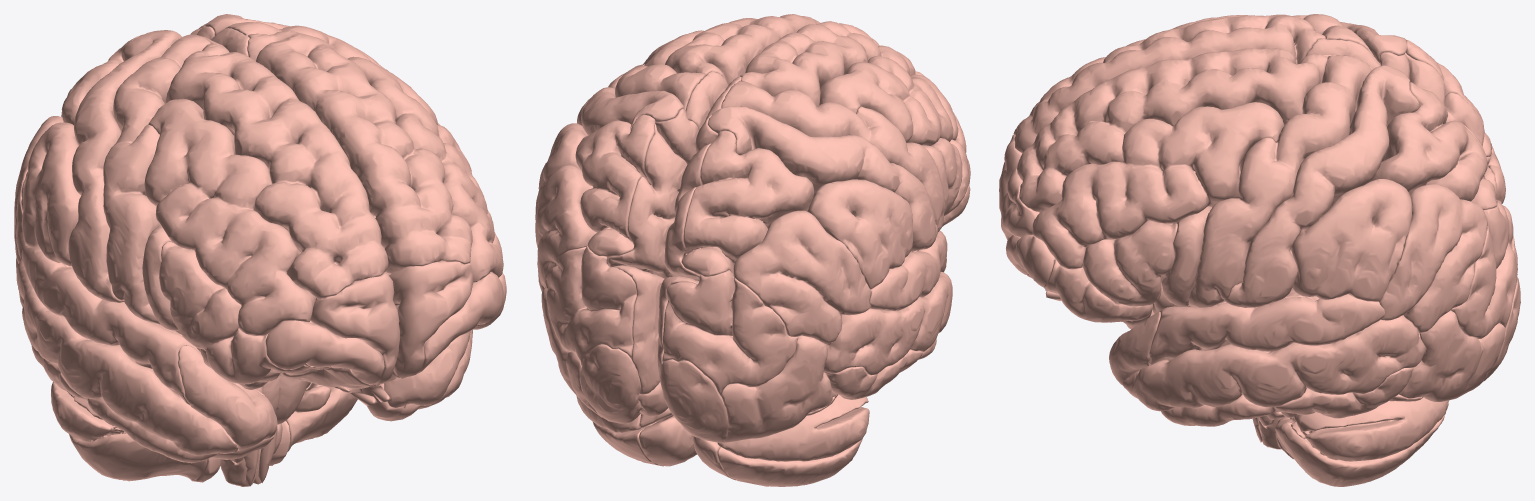
File: brain-female.glb
The picture shows the model from 3 angles, left to right: view 1: azimuth 30°, elevation 25°; view 2: azimuth 150°, elevation 25°; view 3: azimuth 270°, elevation 25°; orthographic projection. The views are drawn at different scales.
Visible parts, largest first — view 1: Allen_superior_frontal_gyrus_L, Allen_middle_frontal_gyrus_L, Allen_superior_frontal_gyrus_R, Allen_middle_temporal_gyrus_L, Allen_primary_motor_cortex_L, Allen_postcentral_gyrus_L, Allen_superior_temporal_gyrus_L, Allen_middle_frontal_gyrus_R, Allen_supramarginal_gyrus_L, Allen_rostral_gyrus_R, Allen_lateral_hemisphere_of_cerebellum_L, Allen_inferior_frontal_gyrus_triangular_part_L (+19 smaller); view 2: Allen_angular_gyrus_L, Allen_supraparietal_lobule_L, Allen_superior_occipital_gyrus_L, Allen_postcentral_gyrus_L, Allen_lateral_hemisphere_of_cerebellum_L, Allen_superior_occipital_gyrus_R, Allen_supraparietal_lobule_R, Allen_primary_motor_cortex_L, Allen_supramarginal_gyrus_L, Allen_middle_frontal_gyrus_L, Allen_superior_frontal_gyrus_L, Allen_inferior_occipital_gyrus_L (+24 smaller); view 3: Allen_middle_frontal_gyrus_R, Allen_superior_frontal_gyrus_R, Allen_middle_temporal_gyrus_R, Allen_primary_motor_cortex_R, Allen_postcentral_gyrus_R, Allen_supramarginal_gyrus_R, Allen_angular_gyrus_R, Allen_superior_temporal_gyrus_R, Allen_lateral_hemisphere_of_cerebellum_R, Allen_superior_frontal_gyrus_L, Allen_supraparietal_lobule_R, Allen_inferior_frontal_gyrus_triangular_part_R (+16 smaller).
Boxes of the visible parts, x1=… form: Allen_superior_frontal_gyrus_L: x1=165, y1=43, x2=388, y2=299; Allen_middle_frontal_gyrus_L: x1=144, y1=98, x2=315, y2=335; Allen_superior_frontal_gyrus_R: x1=247, y1=31, x2=472, y2=273; Allen_middle_temporal_gyrus_L: x1=16, y1=260, x2=238, y2=455; Allen_primary_motor_cortex_L: x1=103, y1=34, x2=210, y2=325; Allen_postcentral_gyrus_L: x1=68, y1=30, x2=181, y2=302; Allen_superior_temporal_gyrus_L: x1=21, y1=245, x2=196, y2=404; Allen_middle_frontal_gyrus_R: x1=347, y1=56, x2=503, y2=282; Allen_supramarginal_gyrus_L: x1=21, y1=122, x2=81, y2=266; Allen_rostral_gyrus_R: x1=389, y1=260, x2=473, y2=378; Allen_lateral_hemisphere_of_cerebellum_L: x1=51, y1=382, x2=207, y2=481; Allen_inferior_frontal_gyrus_triangular_part_L: x1=159, y1=241, x2=241, y2=350; Allen_angular_gyrus_L: x1=733, y1=210, x2=870, y2=344; Allen_supraparietal_lobule_L: x1=681, y1=130, x2=814, y2=276; Allen_superior_occipital_gyrus_L: x1=662, y1=270, x2=798, y2=395; Allen_postcentral_gyrus_L: x1=707, y1=106, x2=938, y2=251; Allen_lateral_hemisphere_of_cerebellum_L: x1=717, y1=394, x2=869, y2=486; Allen_superior_occipital_gyrus_R: x1=546, y1=245, x2=636, y2=365; Allen_supraparietal_lobule_R: x1=575, y1=114, x2=655, y2=256; Allen_primary_motor_cortex_L: x1=721, y1=81, x2=944, y2=231; Allen_supramarginal_gyrus_L: x1=807, y1=179, x2=912, y2=289; Allen_middle_frontal_gyrus_L: x1=819, y1=55, x2=966, y2=152; Allen_superior_frontal_gyrus_L: x1=740, y1=21, x2=923, y2=106; Allen_inferior_occipital_gyrus_L: x1=721, y1=335, x2=836, y2=442; Allen_middle_frontal_gyrus_R: x1=1032, y1=102, x2=1284, y2=269; Allen_superior_frontal_gyrus_R: x1=1017, y1=48, x2=1327, y2=212; Allen_middle_temporal_gyrus_R: x1=1122, y1=315, x2=1425, y2=411; Allen_primary_motor_cortex_R: x1=1188, y1=55, x2=1371, y2=307; Allen_postcentral_gyrus_R: x1=1225, y1=65, x2=1420, y2=307; Allen_supramarginal_gyrus_R: x1=1290, y1=179, x2=1412, y2=301; Allen_angular_gyrus_R: x1=1379, y1=184, x2=1487, y2=333; Allen_superior_temporal_gyrus_R: x1=1149, y1=294, x2=1384, y2=365; Allen_lateral_hemisphere_of_cerebellum_R: x1=1267, y1=397, x2=1448, y2=486; Allen_superior_frontal_gyrus_L: x1=1013, y1=14, x2=1325, y2=153; Allen_supraparietal_lobule_R: x1=1371, y1=82, x2=1497, y2=209; Allen_inferior_frontal_gyrus_triangular_part_R: x1=1082, y1=220, x2=1177, y2=306.
Bounding box in the file's own units: 0.1364 × 0.1461 × 0.167.
